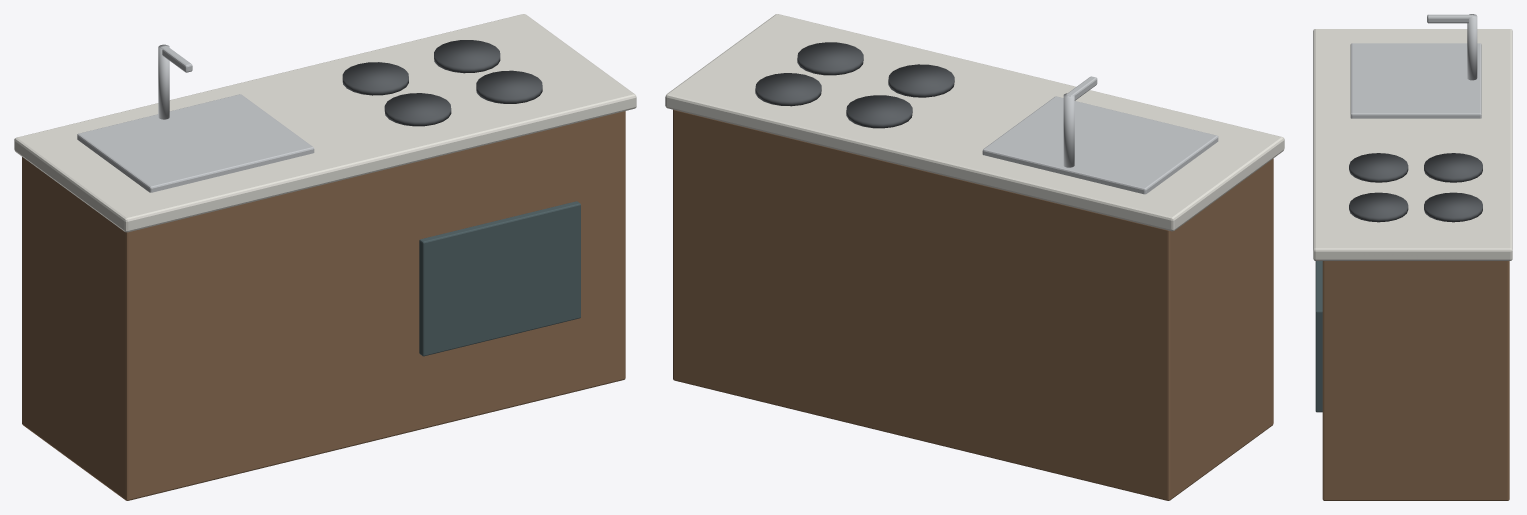
File: kitchen_counter_stove.glb
3 views of the same model, side by side, from view 1: azimuth 30°, elevation 25°; view 2: azimuth 150°, elevation 25°; view 3: azimuth 270°, elevation 25° (orthographic). The views are drawn at different scales.
Parts seen in each view (by area): view 1: CounterBase, CounterTop, OvenWindow, SinkBasin, Burner_0.24_-0.12, Burner_0.24_0.12, Burner_0.54_-0.12, Burner_0.54_0.12, FaucetStem; view 2: CounterBase, CounterTop, SinkBasin, Burner_0.54_-0.12, Burner_0.24_-0.12, Burner_0.24_0.12, Burner_0.54_0.12, FaucetStem; view 3: CounterBase, CounterTop, SinkBasin, Burner_0.24_-0.12, Burner_0.54_-0.12, Burner_0.24_0.12, Burner_0.54_0.12, OvenWindow, FaucetStem, FaucetSpout.
Boxes of the visible parts, x1,y1,x2,y2 form: CounterBase: (22,111,625,500); CounterTop: (14,14,636,232); OvenWindow: (419,201,580,356); SinkBasin: (77,94,314,192); Burner_0.24_-0.12: (384,93,451,126); Burner_0.24_0.12: (342,62,408,95); Burner_0.54_-0.12: (476,70,542,103); Burner_0.54_0.12: (434,40,500,73); FaucetStem: (158,44,169,119); CounterBase: (673,109,1273,500); CounterTop: (665,14,1284,231); SinkBasin: (982,96,1218,194); Burner_0.54_-0.12: (797,42,863,75); Burner_0.24_-0.12: (888,64,954,97); Burner_0.24_0.12: (846,95,912,128); Burner_0.54_0.12: (755,73,821,106); FaucetStem: (1063,93,1074,167); CounterBase: (1322,261,1509,500); CounterTop: (1313,29,1512,260); SinkBasin: (1350,43,1481,118); Burner_0.24_-0.12: (1349,153,1408,182); Burner_0.54_-0.12: (1349,192,1408,222); Burner_0.24_0.12: (1424,153,1482,182); Burner_0.54_0.12: (1424,192,1482,222); OvenWindow: (1315,261,1322,412); FaucetStem: (1467,14,1477,80); FaucetSpout: (1427,14,1473,23).
Size of the model in its own units: 1.68 by 1.14 by 0.64.
